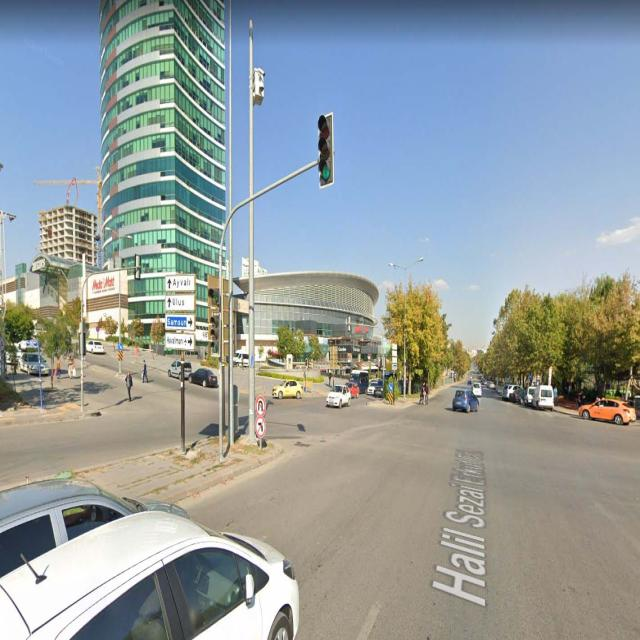soladonulmez: (255, 416, 266, 438)
yesil: (318, 113, 332, 184), (212, 313, 219, 355)
